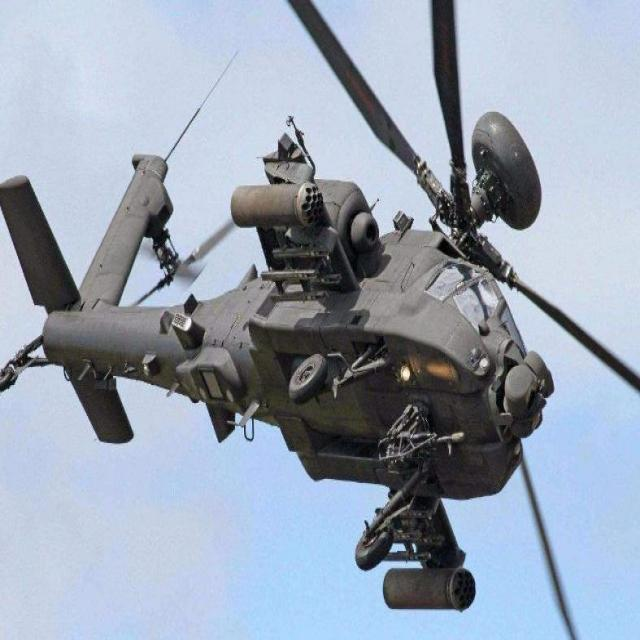MIL_HELO: (0, 0, 625, 640)
